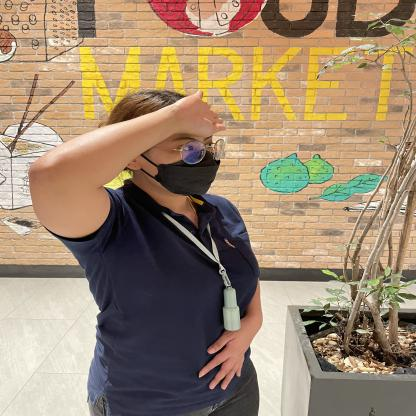Sick: (21, 73, 264, 151)
